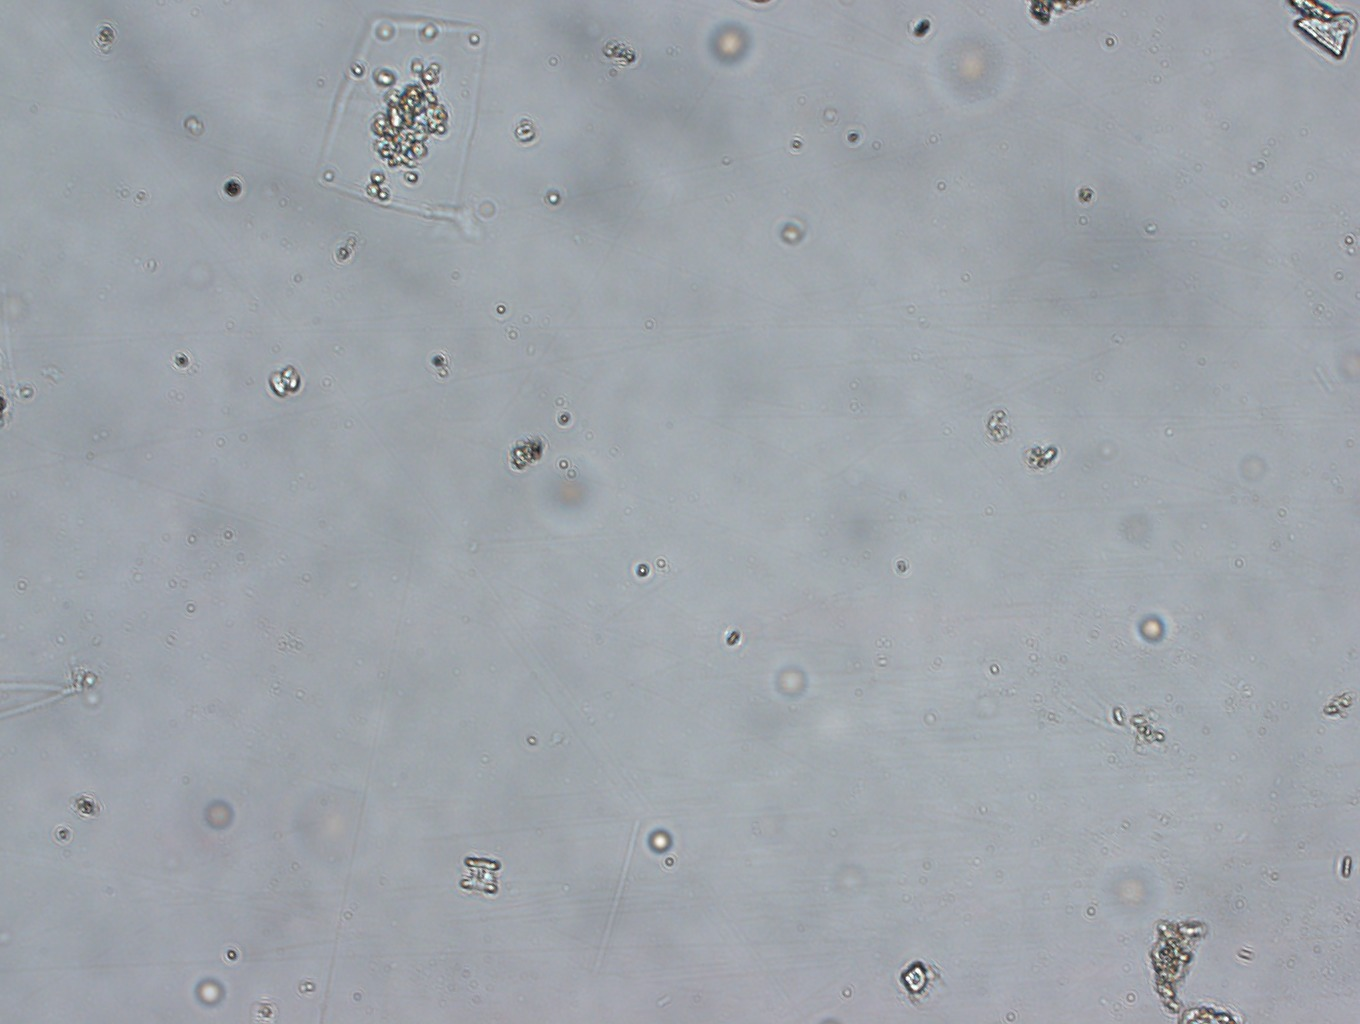helicotheca: (309, 3, 493, 234)
